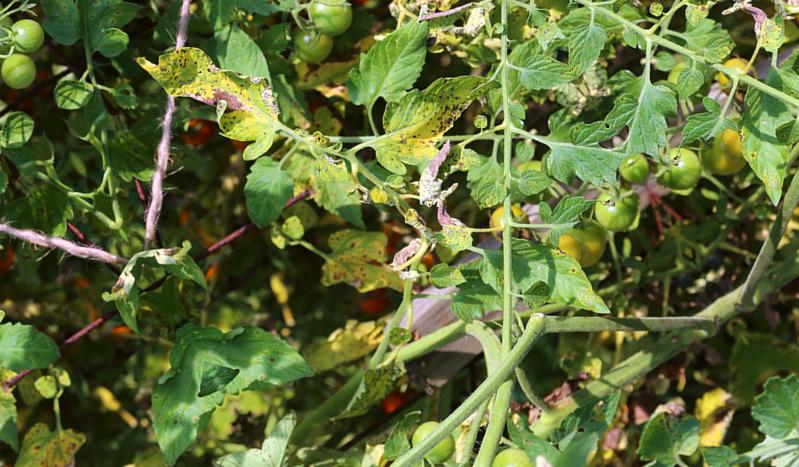Tomato Early blight leaf: (132, 0, 304, 189), (356, 53, 502, 181), (187, 286, 314, 417), (494, 203, 609, 338), (29, 0, 175, 77), (309, 213, 409, 316), (293, 144, 377, 241)
Tomato leaf: (331, 8, 456, 122)
